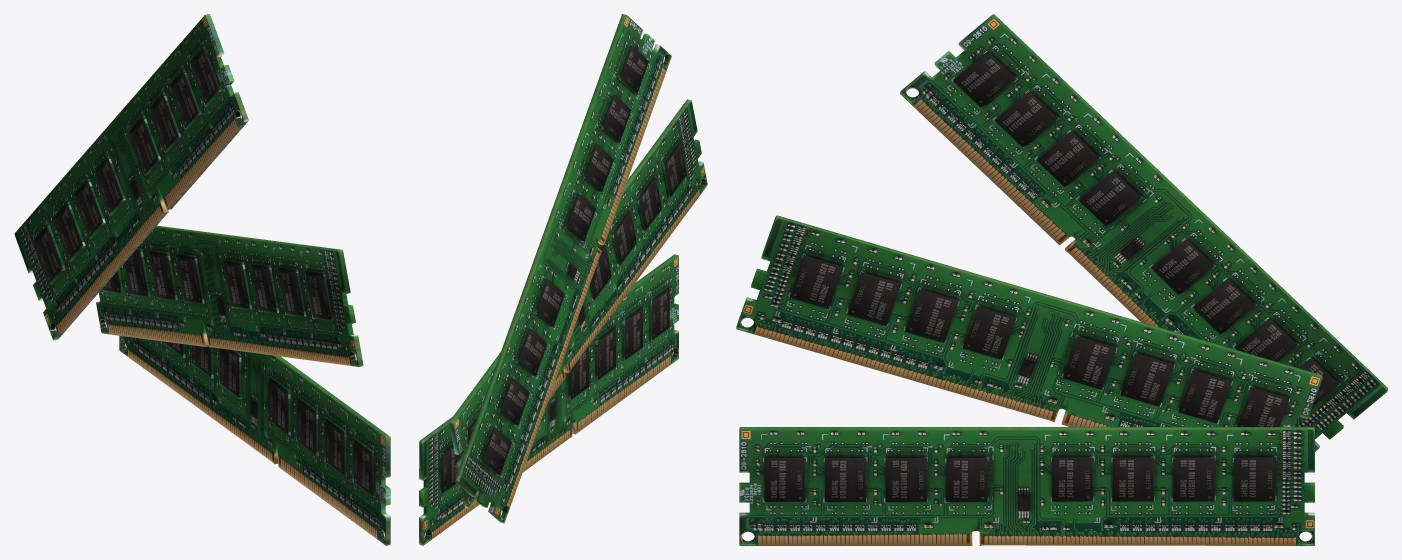
File: RAM.glb
The picture shows the model from 3 angles, left to right: view 1: azimuth 30°, elevation 25°; view 2: azimuth 150°, elevation 25°; view 3: azimuth 270°, elevation 25°; orthographic projection. The views are drawn at different scales.
Parts seen in each view (by area): view 1: Cube_Ram Side_0; view 2: Cube_Ram Side_0; view 3: Cube_Ram Side_0.
Part boxes in pixels (bbox=[...]): Cube_Ram Side_0: bbox=[14, 14, 390, 545]; Cube_Ram Side_0: bbox=[419, 14, 707, 545]; Cube_Ram Side_0: bbox=[736, 14, 1387, 545].
Bounding box in the file's own units: 0.8251 × 4.43 × 5.27.
1 material, 1 textured.
